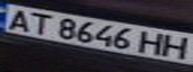4: (93, 23, 115, 48)
6: (112, 25, 136, 52), (75, 19, 96, 44)
8: (51, 16, 78, 42)
A: (3, 6, 36, 31)
H: (160, 33, 193, 61), (136, 29, 169, 56)
T: (24, 10, 57, 36)
